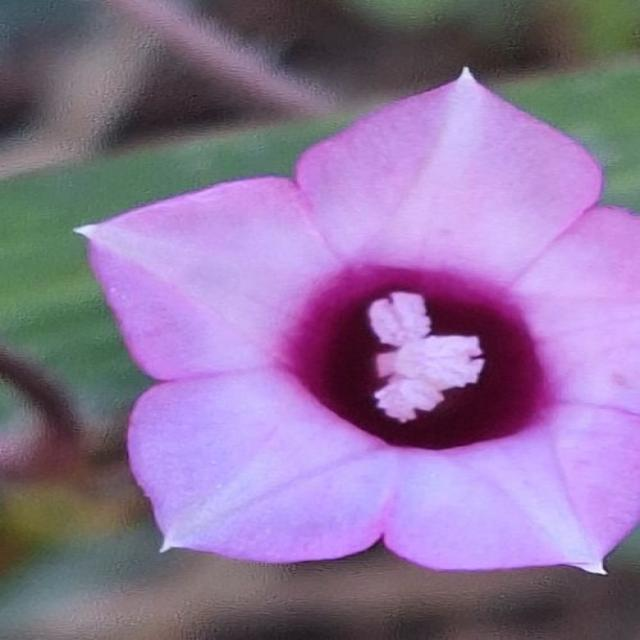ipomoea: (70, 63, 639, 578)
